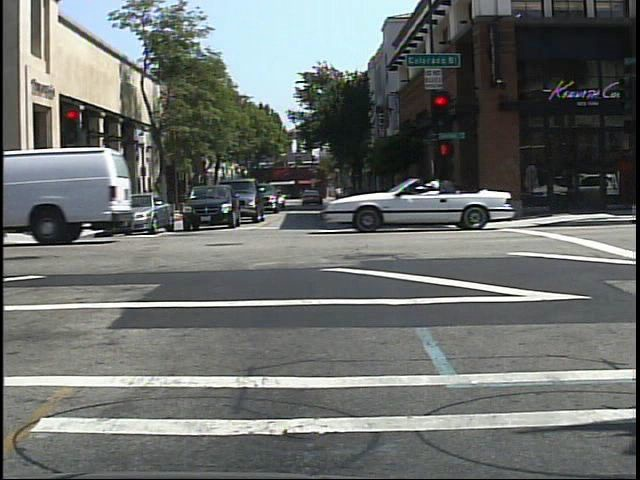person: (94, 179, 113, 227)
